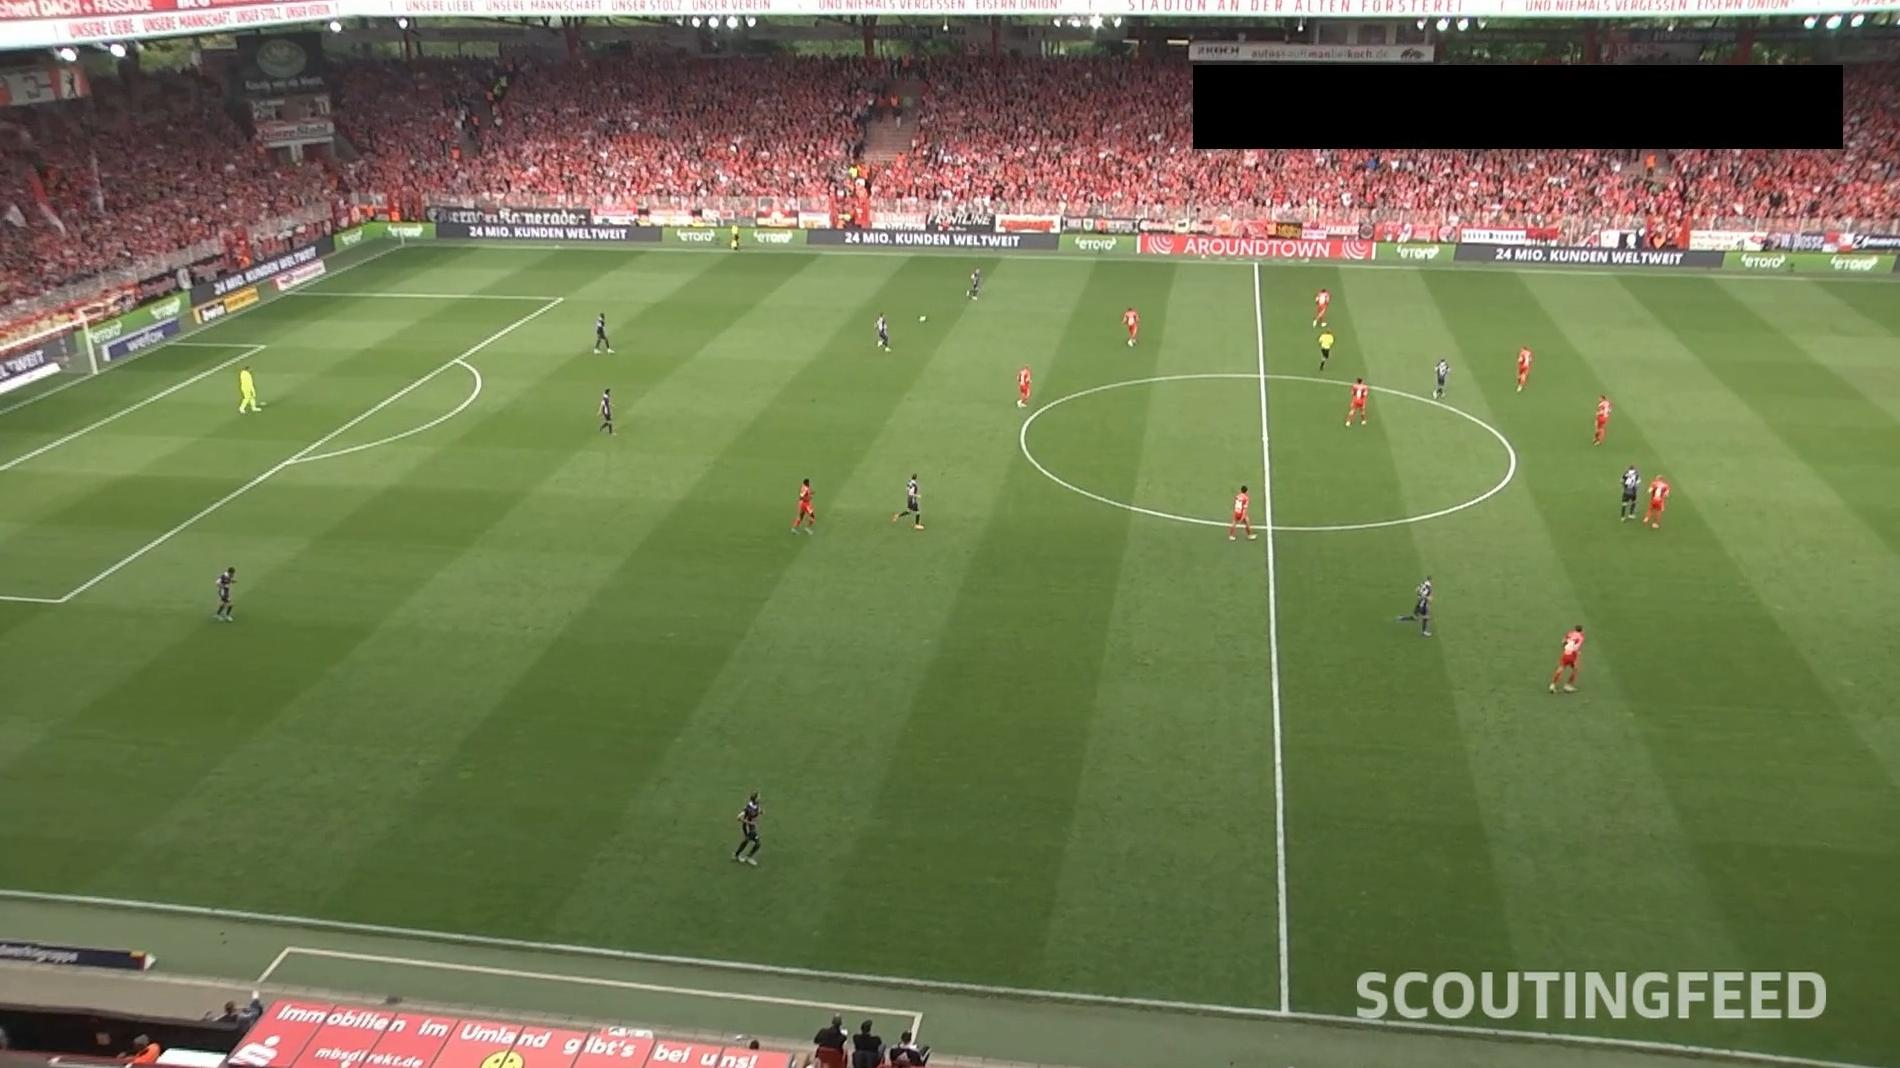ball: (917, 313, 928, 324)
